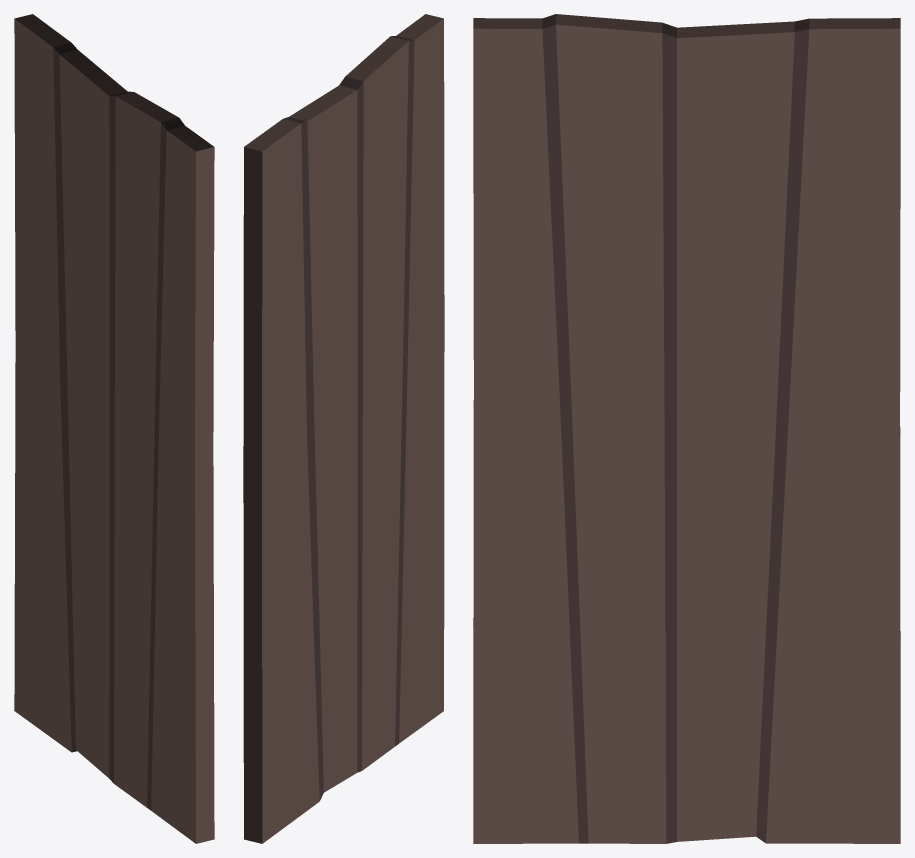
File: SM_Outhouse_door.fbx
The picture shows the model from 3 angles, left to right: view 1: azimuth 30°, elevation 25°; view 2: azimuth 150°, elevation 25°; view 3: azimuth 270°, elevation 25°; orthographic projection. The views are drawn at different scales.
Parts seen in each view (by area): view 1: SM_Outhouse_door; view 2: SM_Outhouse_door; view 3: SM_Outhouse_door.
Boxes of the visible parts, box(x1,y1,x2,y2) form: SM_Outhouse_door: box(14, 14, 214, 843); SM_Outhouse_door: box(243, 14, 444, 843); SM_Outhouse_door: box(473, 14, 900, 843).
Bounding box in the file's own units: 6.32 × 210 × 99.29.
1 material, 1 textured.
